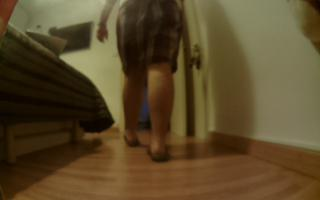person: (94, 1, 212, 168)
